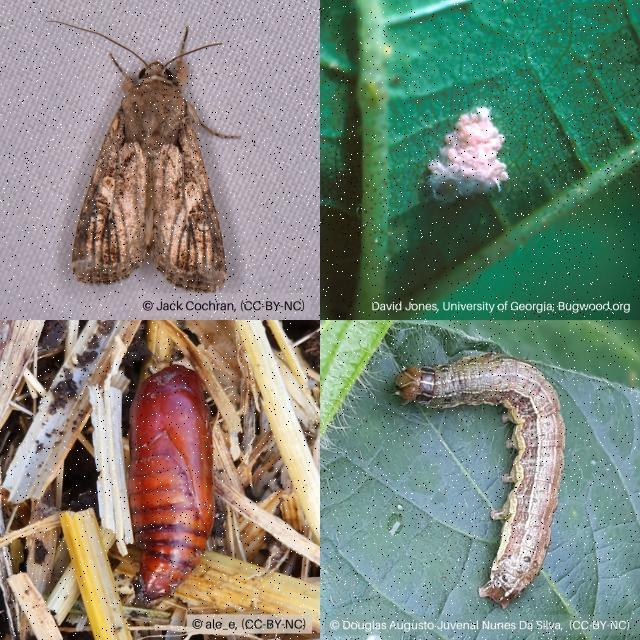army worm: (360, 336, 600, 604)
